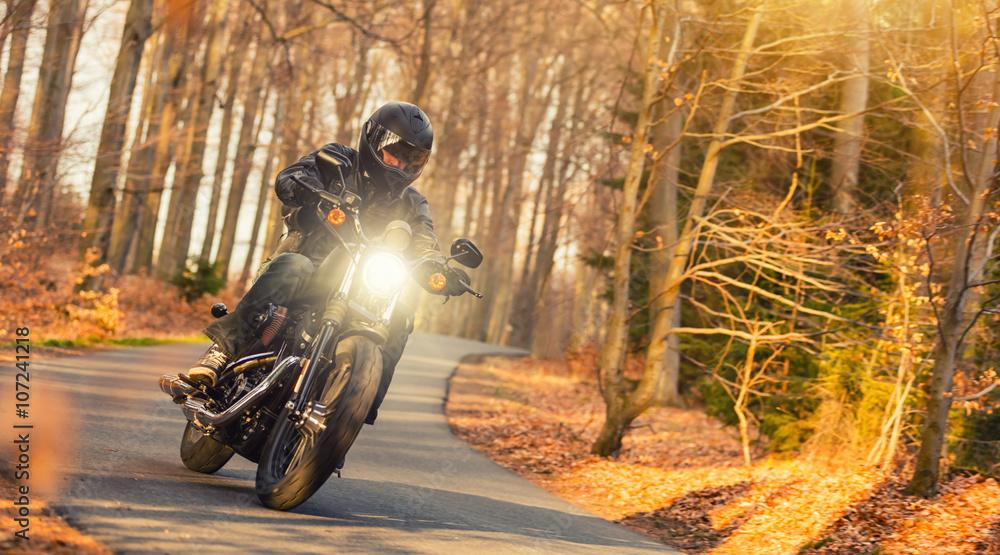helmet: (357, 100, 434, 194)
